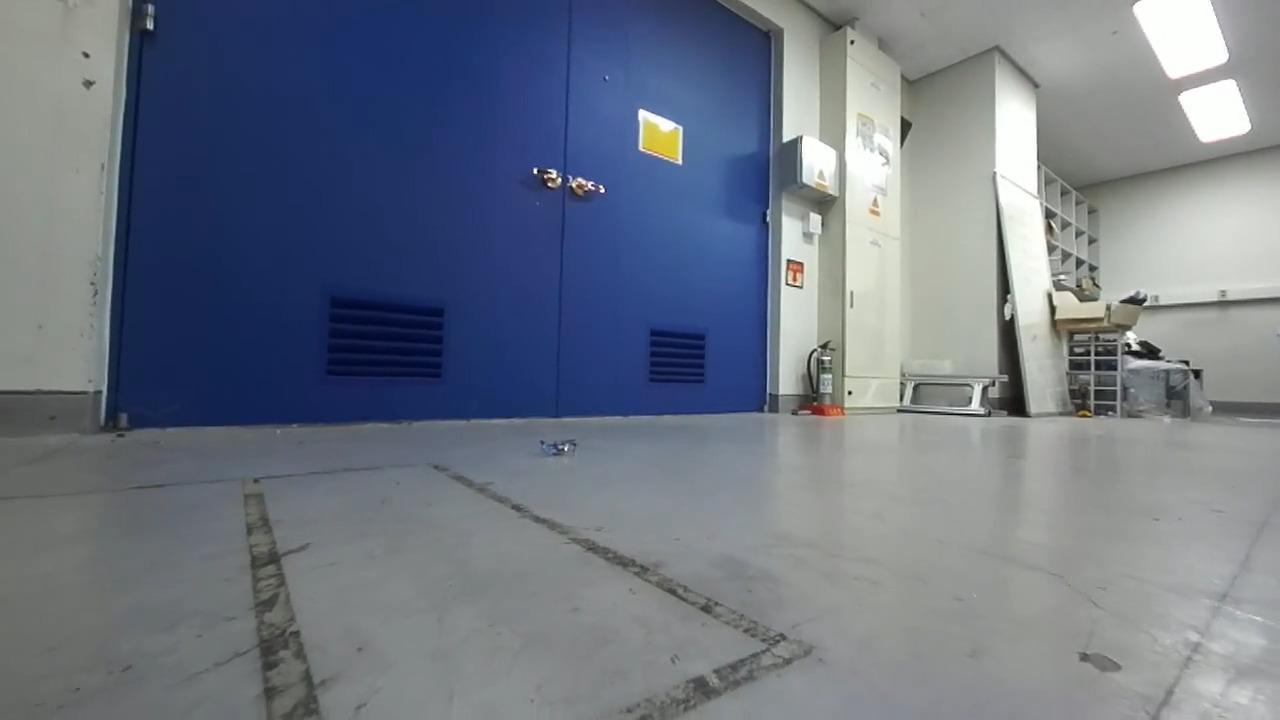crazyflie: (531, 432, 586, 463)
